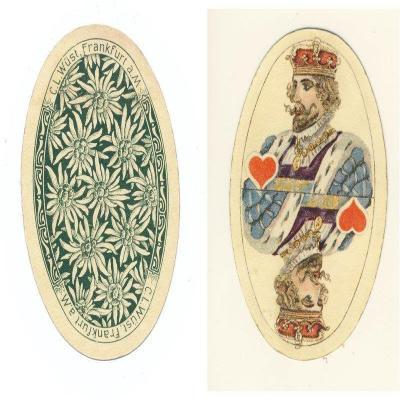graphics: (228, 27, 388, 362), (20, 25, 179, 362)
